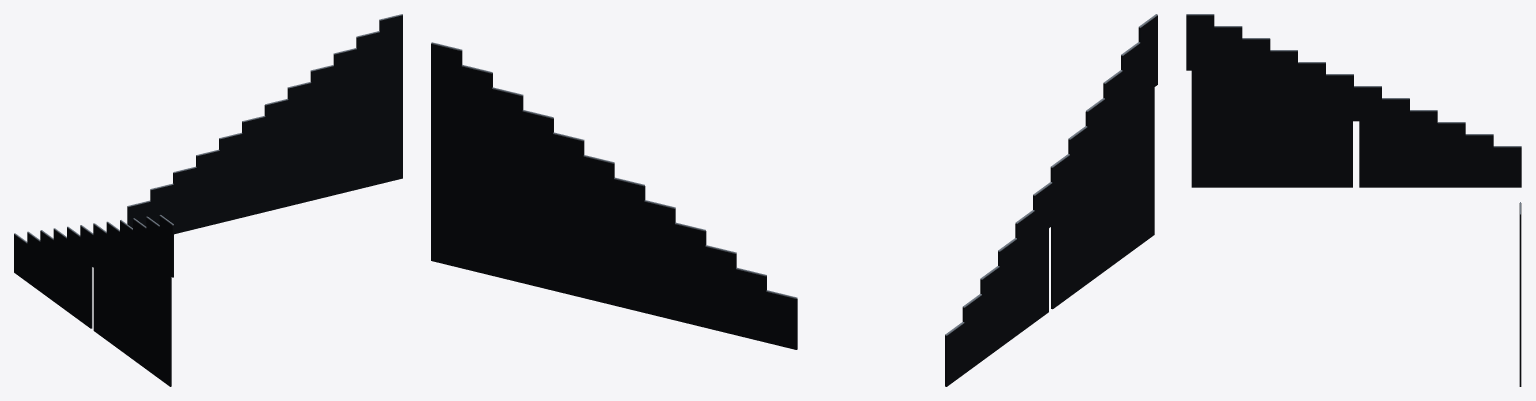
File: tt_struct_f3_corner_cheeks_ne.glb
The picture shows the model from 3 angles, left to right: view 1: azimuth 30°, elevation 25°; view 2: azimuth 150°, elevation 25°; view 3: azimuth 270°, elevation 25°; orthographic projection. The views are drawn at different scales.
Visible parts, largest first — view 1: Cheek_Wall, Cheek_Cap; view 2: Cheek_Wall, Cheek_Cap; view 3: Cheek_Wall, Cheek_Cap.
Part boxes in pixels (bbox=[...]): Cheek_Wall: bbox=[14, 15, 402, 386]; Cheek_Cap: bbox=[14, 14, 402, 243]; Cheek_Wall: bbox=[431, 15, 1157, 386]; Cheek_Cap: bbox=[431, 14, 1157, 335]; Cheek_Wall: bbox=[1186, 15, 1521, 386]; Cheek_Cap: bbox=[1186, 14, 1521, 214].
Size of what is drawn, in the model's own units: 16.09 by 6.5 by 11.4.
Materials: 2 (2 with a texture image).
